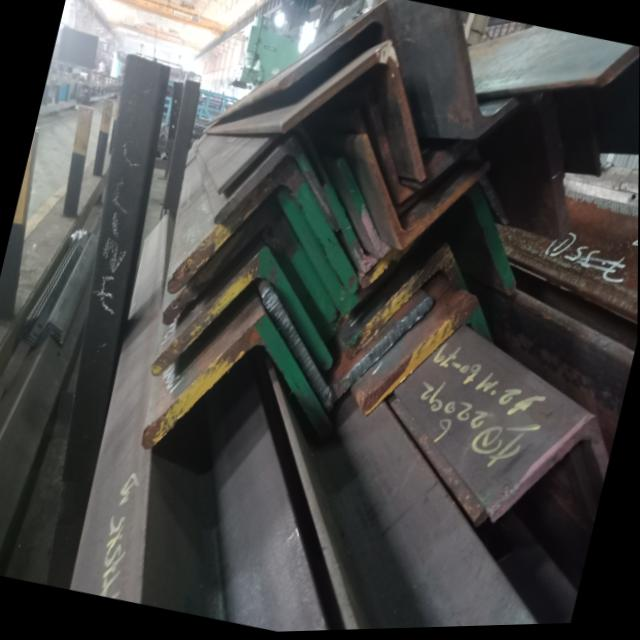metal-angles: (166, 156, 360, 296), (140, 317, 333, 449), (150, 248, 334, 378), (162, 198, 338, 328), (262, 287, 434, 411), (282, 42, 426, 183), (364, 298, 493, 416), (360, 135, 485, 251), (346, 244, 467, 360), (492, 419, 609, 529), (213, 137, 340, 232), (280, 3, 394, 91), (453, 13, 517, 141), (37, 320, 63, 337), (38, 332, 62, 345), (40, 324, 61, 338), (39, 328, 61, 341)
